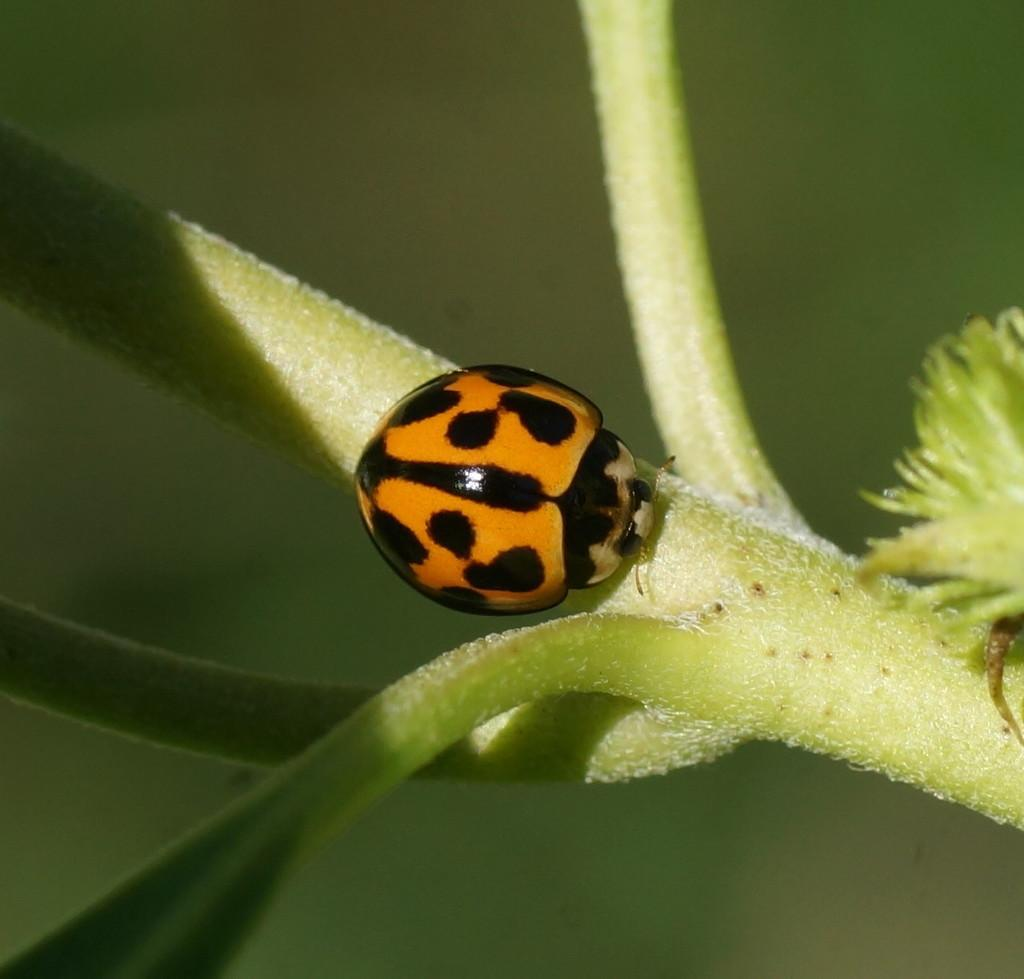ladybug: (354, 361, 684, 624)
